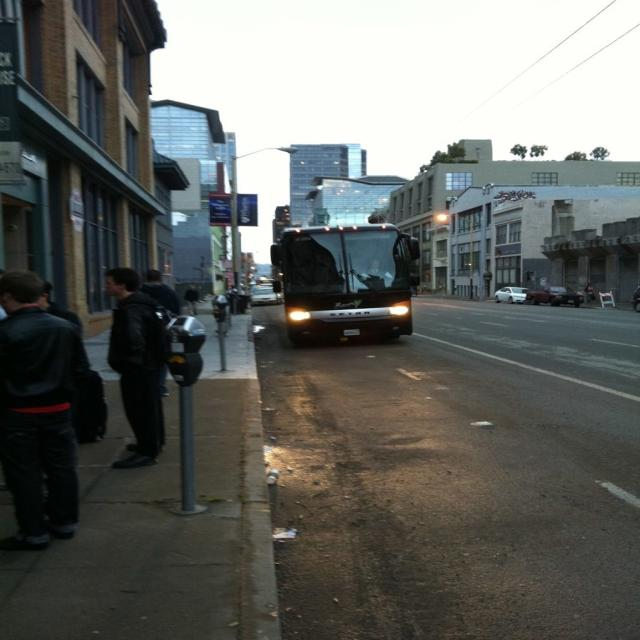Buses: (276, 222, 418, 350)
Passenger Car: (524, 286, 586, 306), (486, 285, 525, 305)
